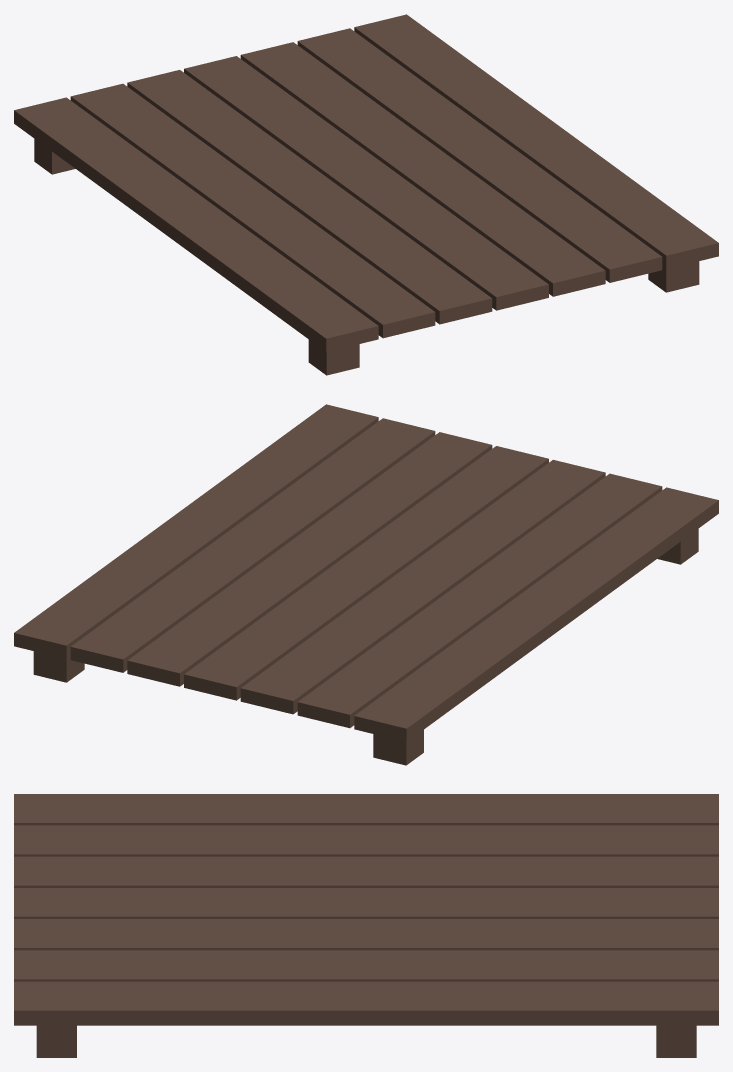
File: Caisse support.fbx
3 views of the same model, one above another, from view 1: azimuth 30°, elevation 25°; view 2: azimuth 150°, elevation 25°; view 3: azimuth 270°, elevation 25° (orthographic). The views are drawn at different scales.
Parts seen in each view (by area): view 1: pCube60; view 2: pCube60; view 3: pCube60.
Part boxes in pixels (x1,y1,x2,y2): pCube60: (14,14,718,375); pCube60: (14,404,718,765); pCube60: (14,794,718,1057).
Bounding box in the file's own units: 0.5414 × 0.0615 × 0.7456.
